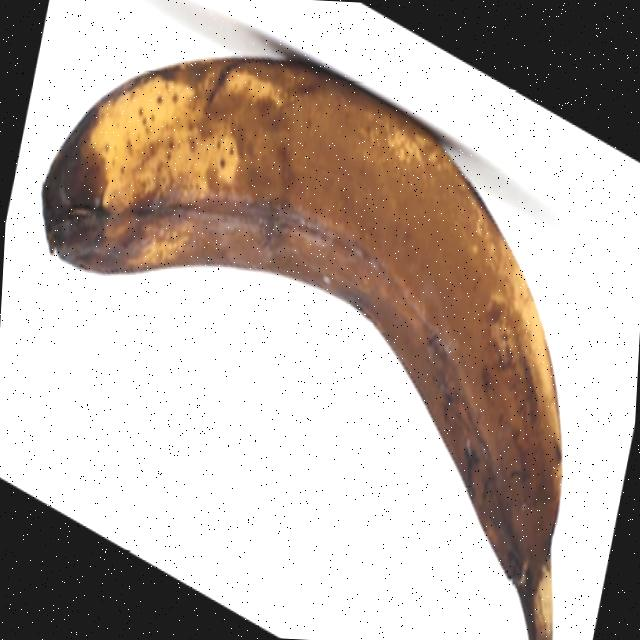Rotten: (18, 46, 585, 640)
